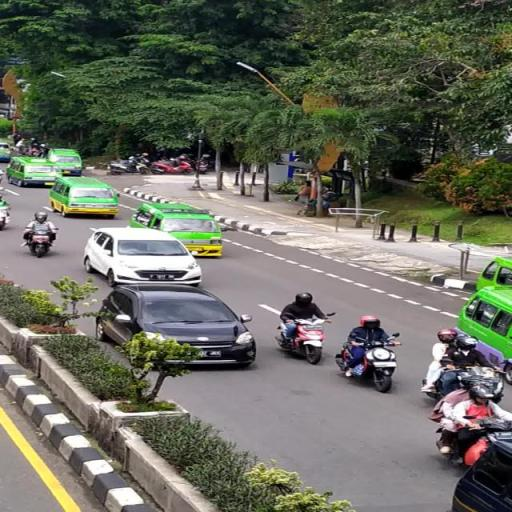Helmet: (469, 385, 494, 399), (437, 329, 458, 343), (456, 336, 477, 349), (360, 316, 380, 328), (460, 376, 476, 390), (296, 292, 312, 305), (35, 212, 47, 223), (178, 156, 187, 160), (142, 153, 148, 157), (40, 144, 46, 147)
Motor: (447, 418, 511, 466), (353, 333, 399, 392), (276, 319, 325, 364), (446, 367, 503, 403), (28, 224, 51, 257), (178, 154, 212, 173), (151, 159, 194, 174), (108, 157, 140, 175), (0, 196, 10, 231), (38, 144, 49, 158)
